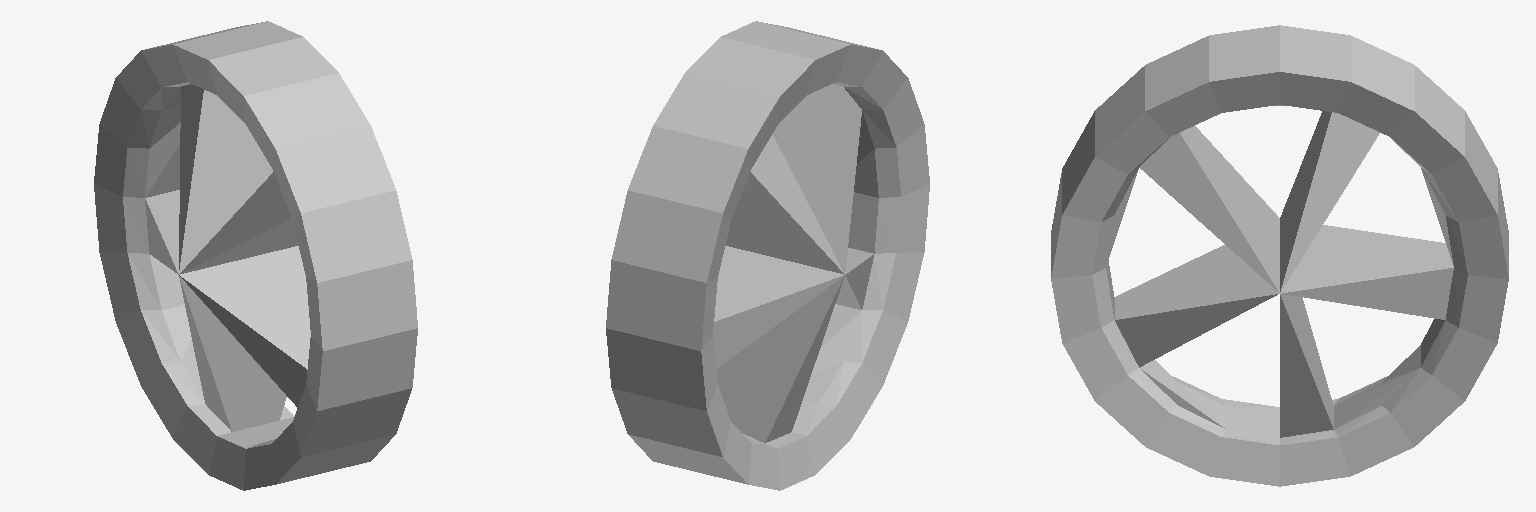
The model's file is Wheel1.obj.
The picture shows the model from 3 angles: view 1: azimuth 30°, elevation 25°; view 2: azimuth 150°, elevation 25°; view 3: azimuth 270°, elevation 25°; orthographic projection.
Visible parts, largest first — view 1: pCylinder6; view 2: pCylinder6; view 3: pCylinder6.
Boxes of the visible parts, x1,y1,x2,y2 form: pCylinder6: [94, 21, 417, 490]; pCylinder6: [606, 21, 929, 490]; pCylinder6: [1051, 25, 1508, 486].
Size of the model in its own units: 0.0553 by 0.142 by 0.142.